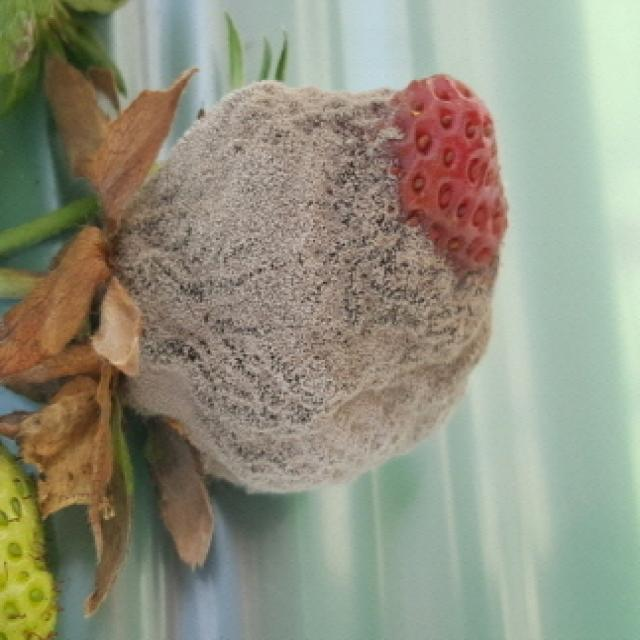Gray Mold: (105, 75, 500, 497)
